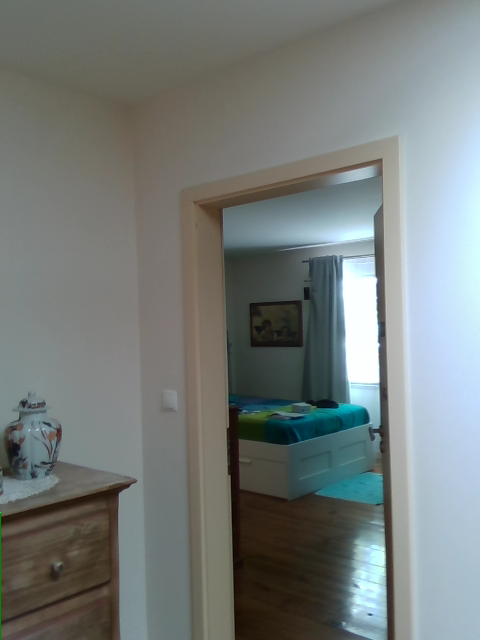open: (179, 136, 418, 639)
